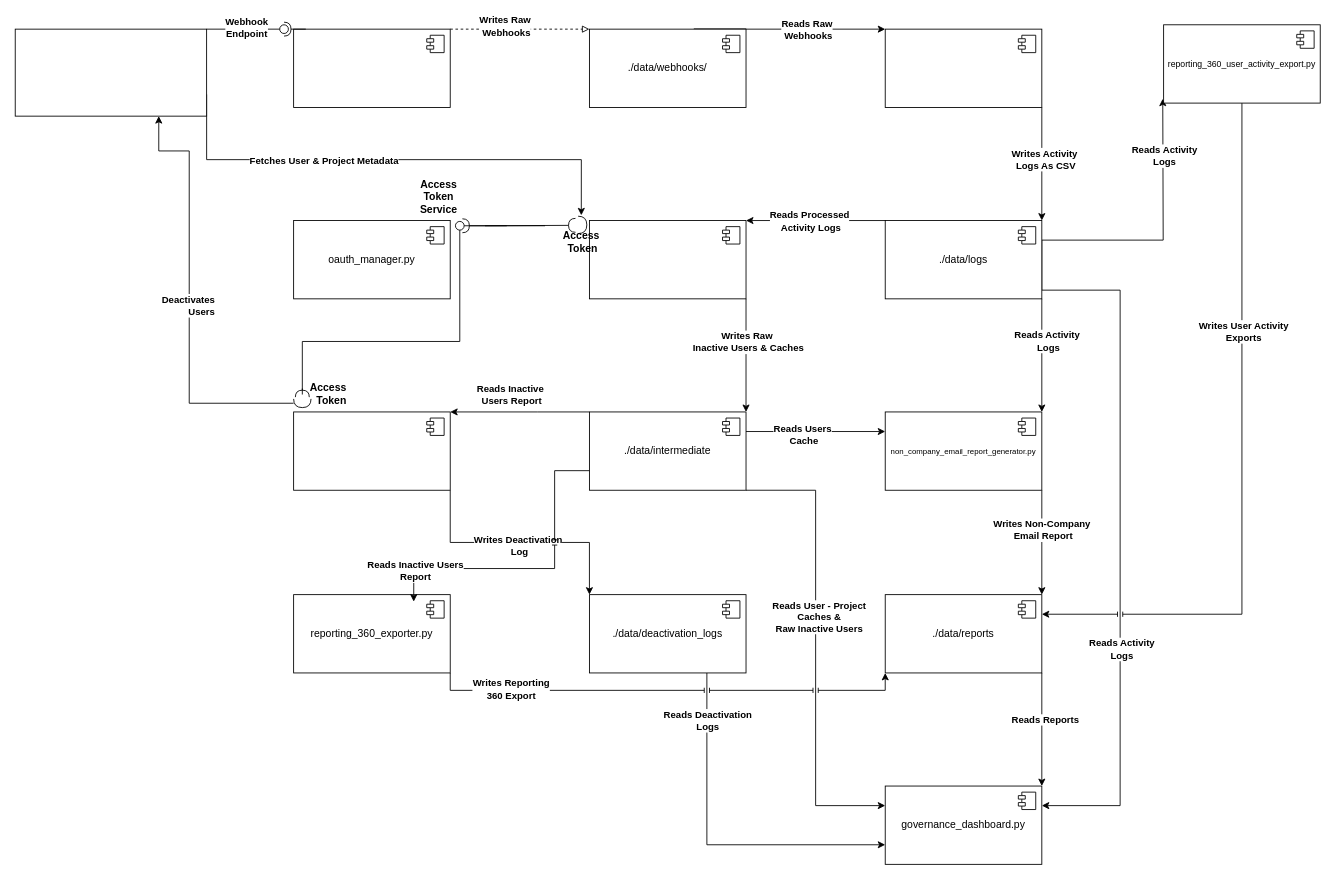
Image size: 1335x880. Some labels were removed from this diagram. Here are the shapes that lost their labels. From the top down, the centre of each, then its label:
At point (110, 72): "Procore Platform".
At point (371, 67): "webhook_listener.py".
At point (963, 67): "activity_logger.py".
At point (667, 259): "inactivity_etl_pipeline.py".
At point (371, 450): "user_deactivation_pipeline.py".
